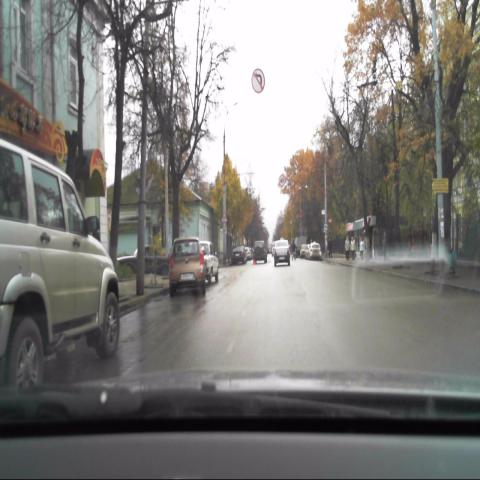3_18_2: (250, 66, 265, 93)
